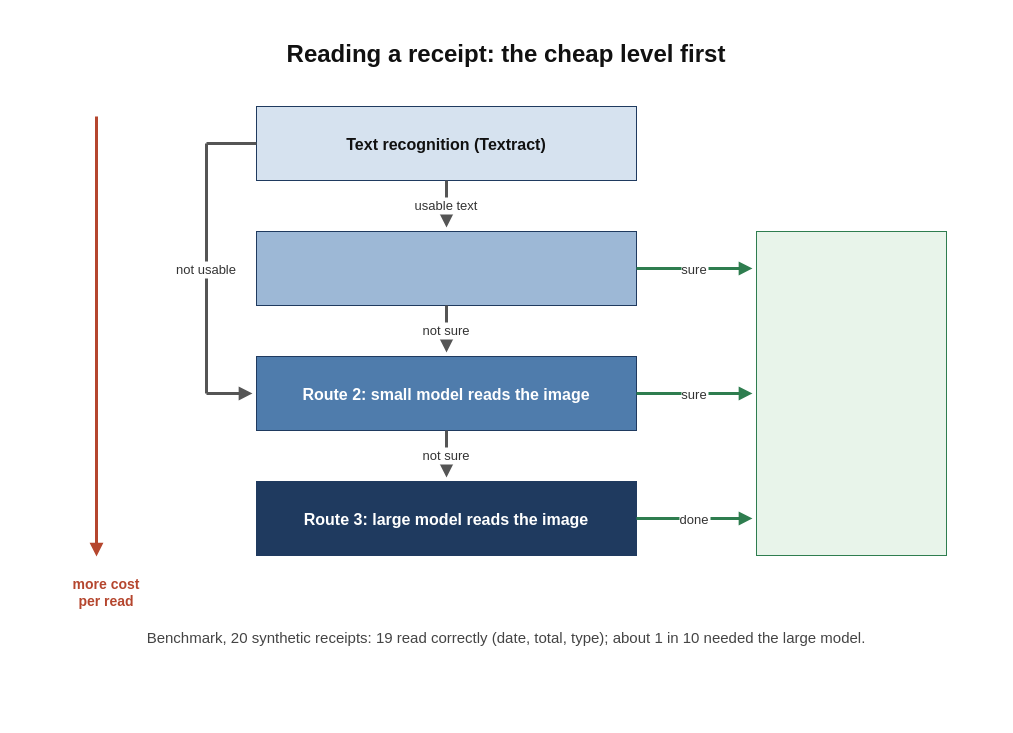
This 1013x733 diagram has some shape labels left out. Each missing label, with the centre of its shape:
Draft card for the employee: (x=851, y=393)
Route 1: small model reads the text: (x=446, y=268)
